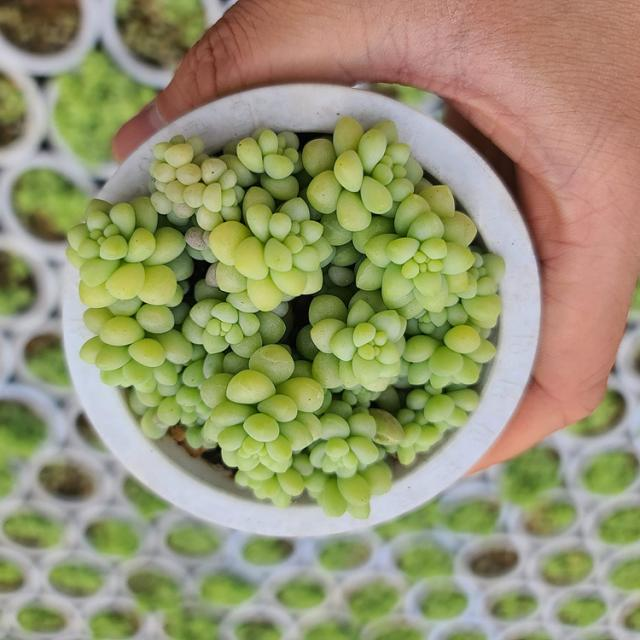Sedum: (236, 118, 455, 235), (169, 158, 332, 311), (356, 211, 505, 335), (186, 345, 331, 472), (310, 287, 450, 392), (294, 391, 405, 519), (68, 203, 184, 308), (181, 280, 289, 360)
